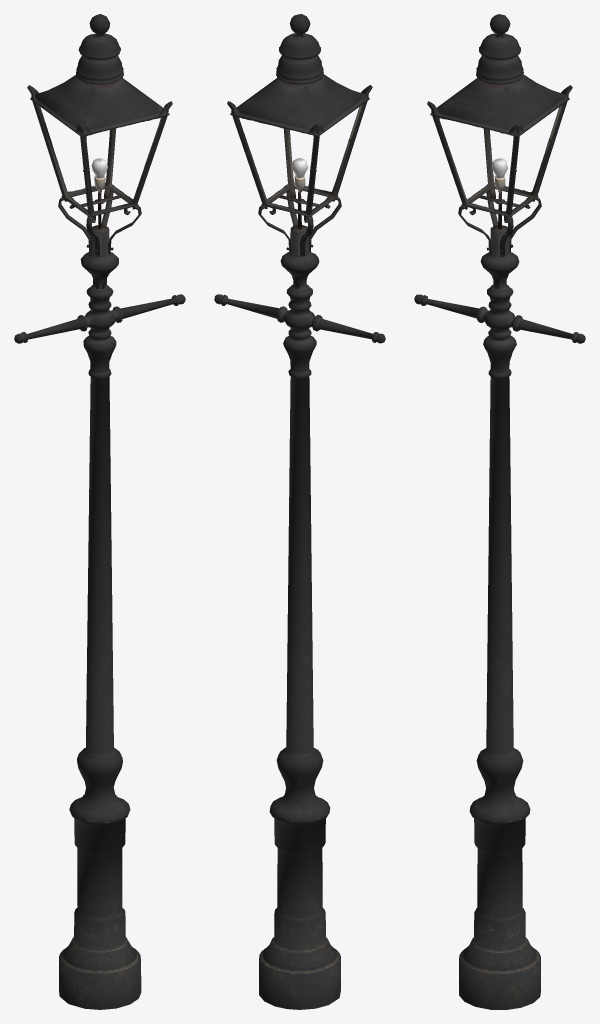
The model's file is street_lamp_01_1k.fbx.
3 views of the same model, side by side, from view 1: azimuth 30°, elevation 25°; view 2: azimuth 150°, elevation 25°; view 3: azimuth 330°, elevation 25° (orthographic).
Visible parts, largest first — view 1: street_lamp_01; view 2: street_lamp_01; view 3: street_lamp_01.
Part boxes in pixels (x1=…): street_lamp_01: x1=14, y1=14, x2=185, y2=1009; street_lamp_01: x1=214, y1=14, x2=385, y2=1009; street_lamp_01: x1=414, y1=14, x2=585, y2=1009.
Size of the model in its own units: 70.44 by 387 by 38.54.
Materials: 3 (3 with a texture image).
